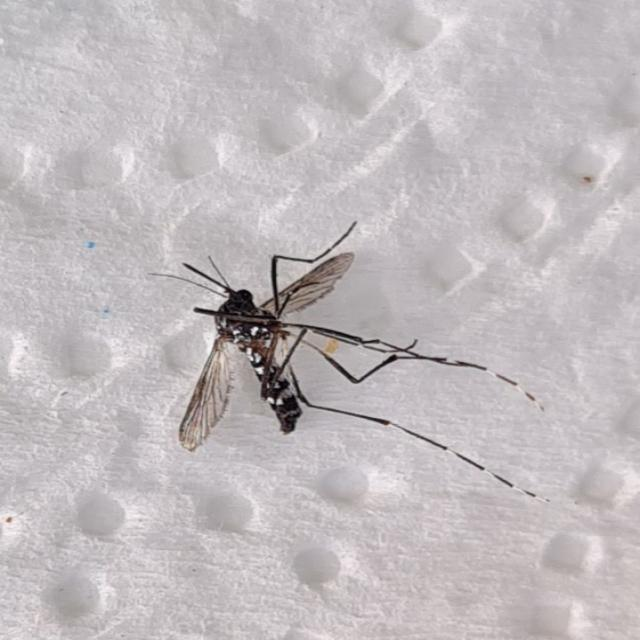albopictus: (140, 212, 557, 512)
